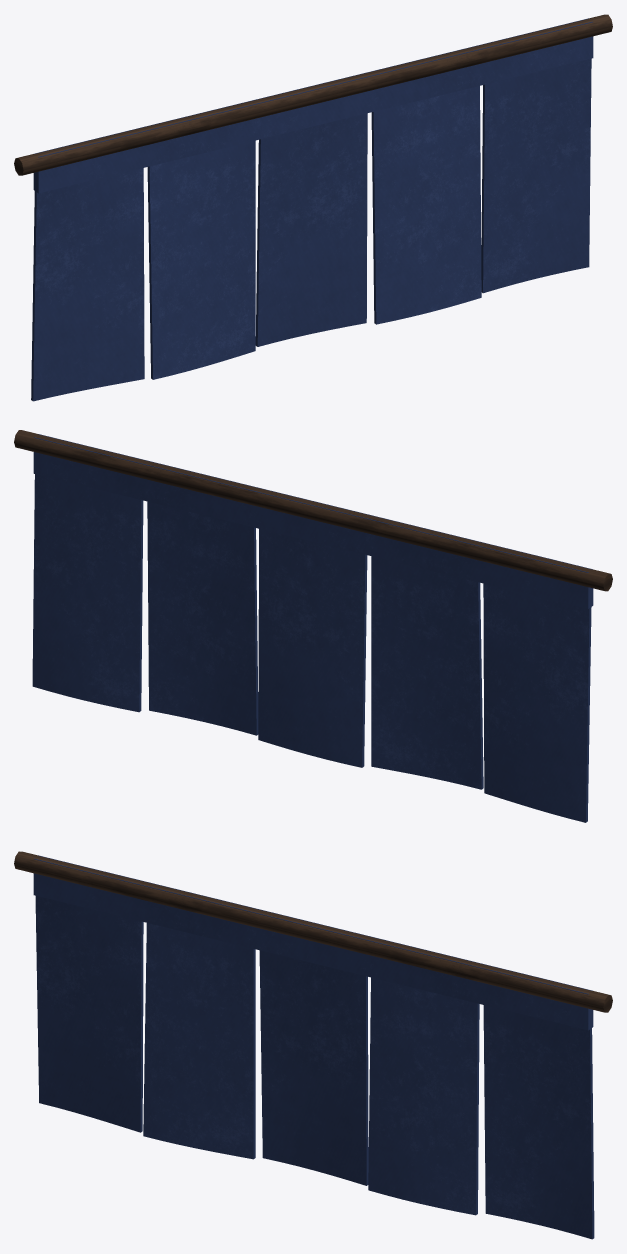
File: HO_Prop_Noren_8_Indigo.fbx
3 views of the same model, one above another, from view 1: azimuth 30°, elevation 25°; view 2: azimuth 150°, elevation 25°; view 3: azimuth 330°, elevation 25° (orthographic).
Parts seen in each view (by area): view 1: HO_Prop_Noren_8_Indigo; view 2: HO_Prop_Noren_8_Indigo; view 3: HO_Prop_Noren_8_Indigo.
Boxes of the visible parts, left/top/right/bottom form: HO_Prop_Noren_8_Indigo: left=14, top=14, right=612, bottom=401; HO_Prop_Noren_8_Indigo: left=14, top=430, right=612, bottom=822; HO_Prop_Noren_8_Indigo: left=14, top=851, right=612, bottom=1239.
Size of the model in its own units: 8.5 by 3.44 by 0.2498.
